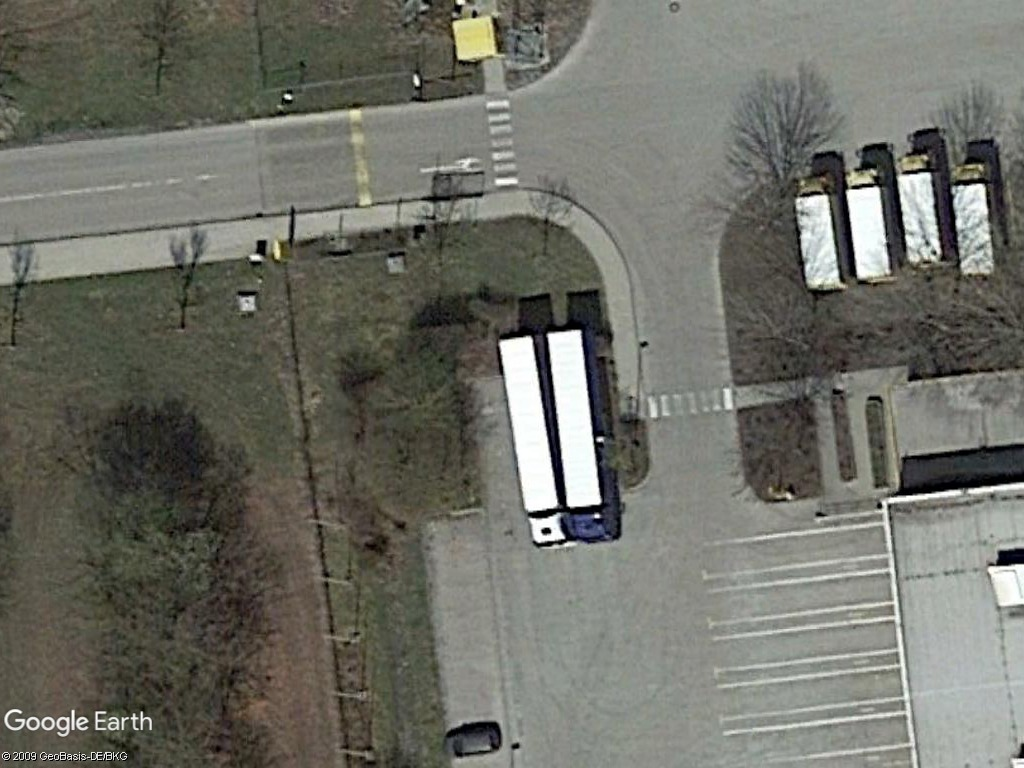longvehicle: (542, 325, 626, 548), (491, 332, 573, 550)
truck: (841, 162, 899, 287), (792, 172, 847, 295), (949, 157, 1004, 279), (894, 151, 945, 276)
